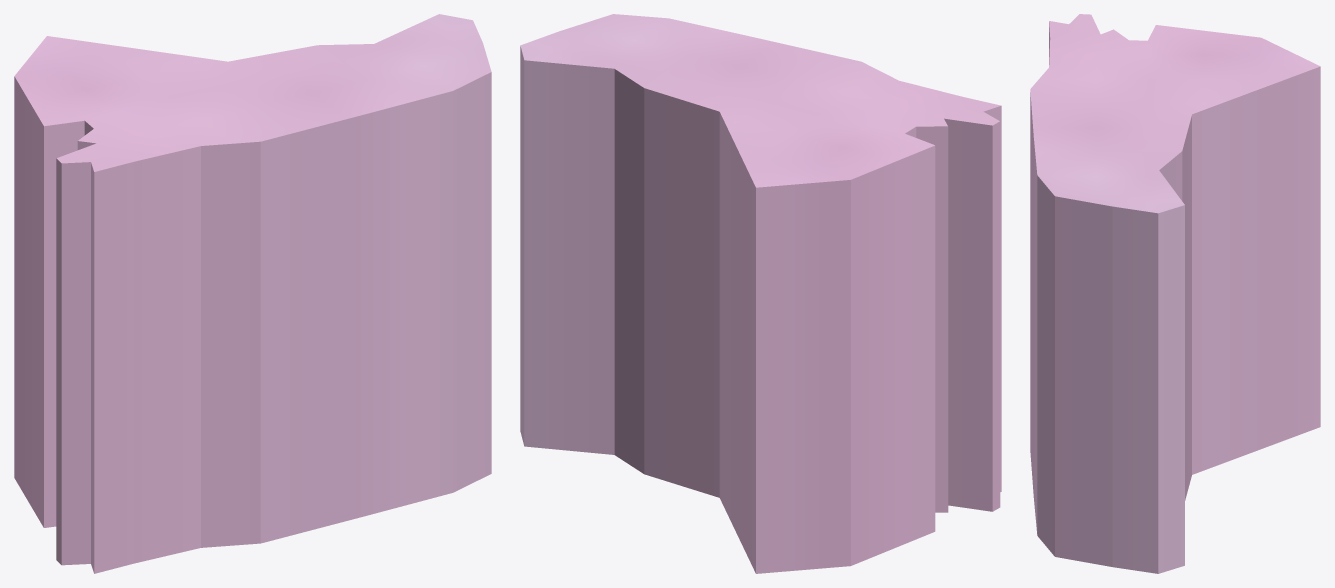
File: union beach.glb
3 views of the same model, side by side, from view 1: azimuth 30°, elevation 25°; view 2: azimuth 150°, elevation 25°; view 3: azimuth 270°, elevation 25° (orthographic). The views are drawn at different scales.
Parts seen in each view (by area): view 1: Plane.044; view 2: Plane.044; view 3: Plane.044.
Boxes of the visible parts, <box> form: Plane.044: <box>14,14,491,573</box>; Plane.044: <box>520,14,1001,573</box>; Plane.044: <box>1030,14,1320,573</box>.
Bounding box in the file's own units: 0.4571 × 0.3856 × 0.2815.
Materials: 1 (1 with a texture image).
